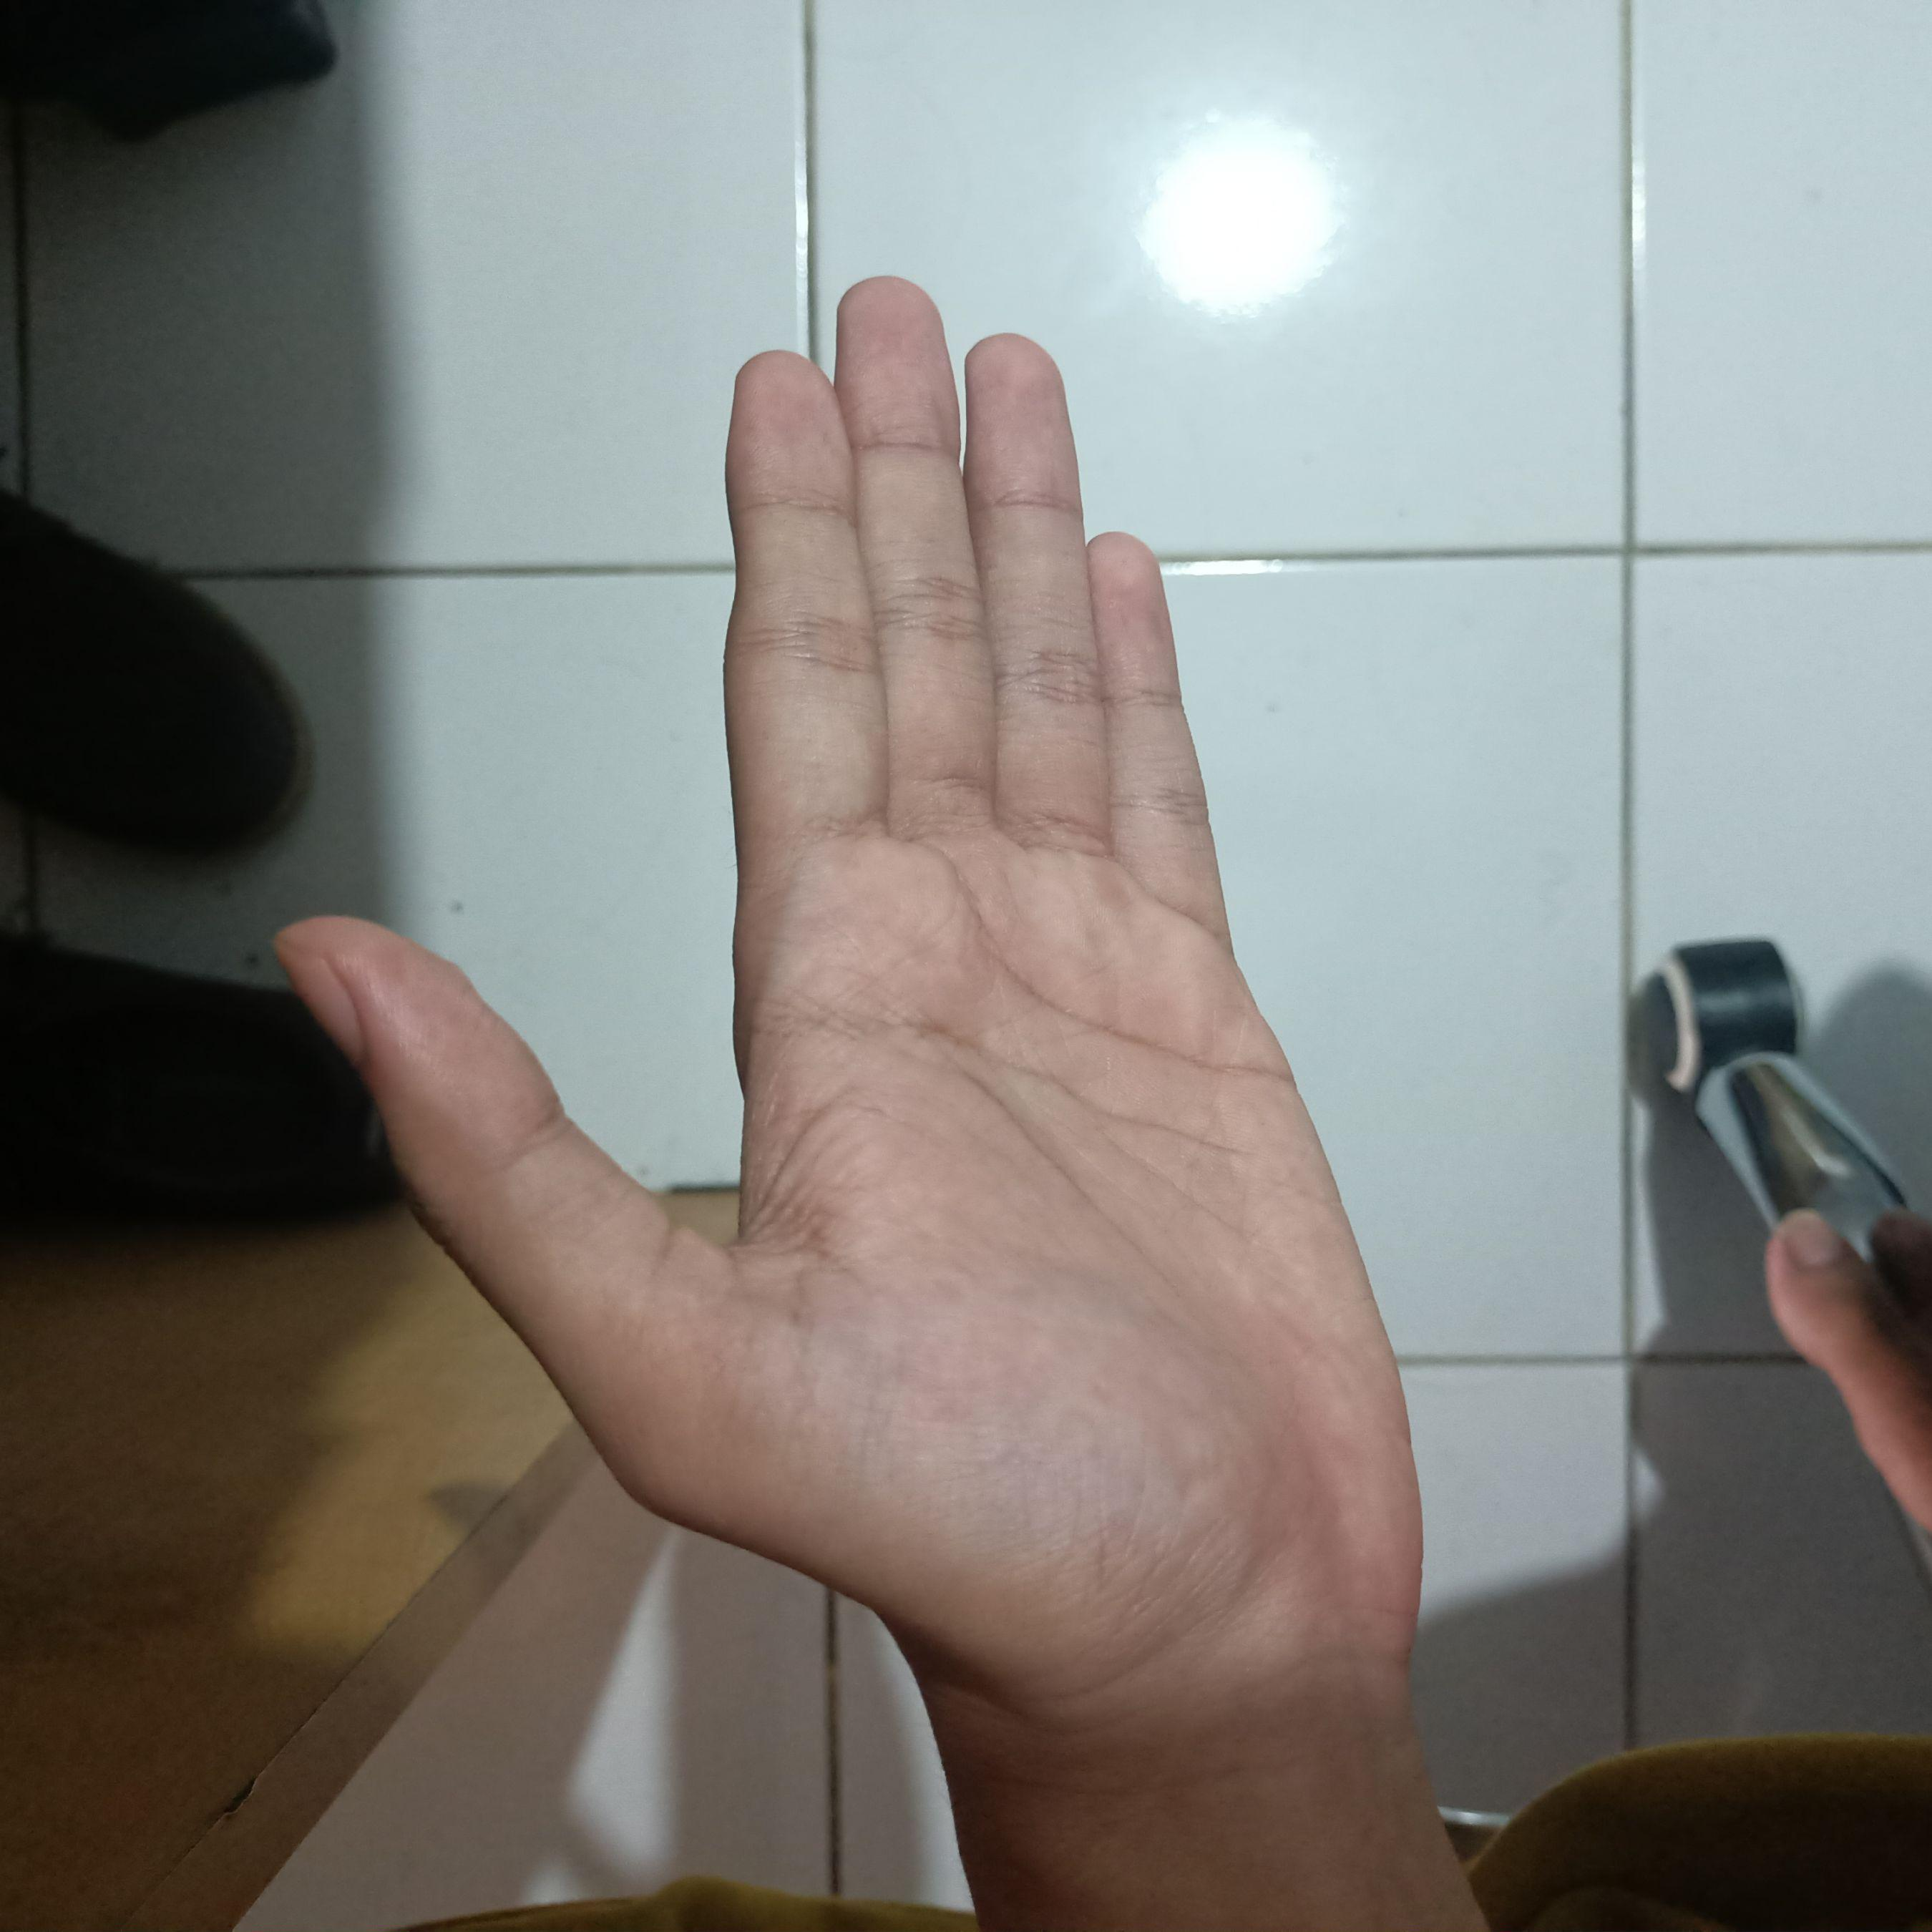paper: (244, 246, 1431, 1713)
